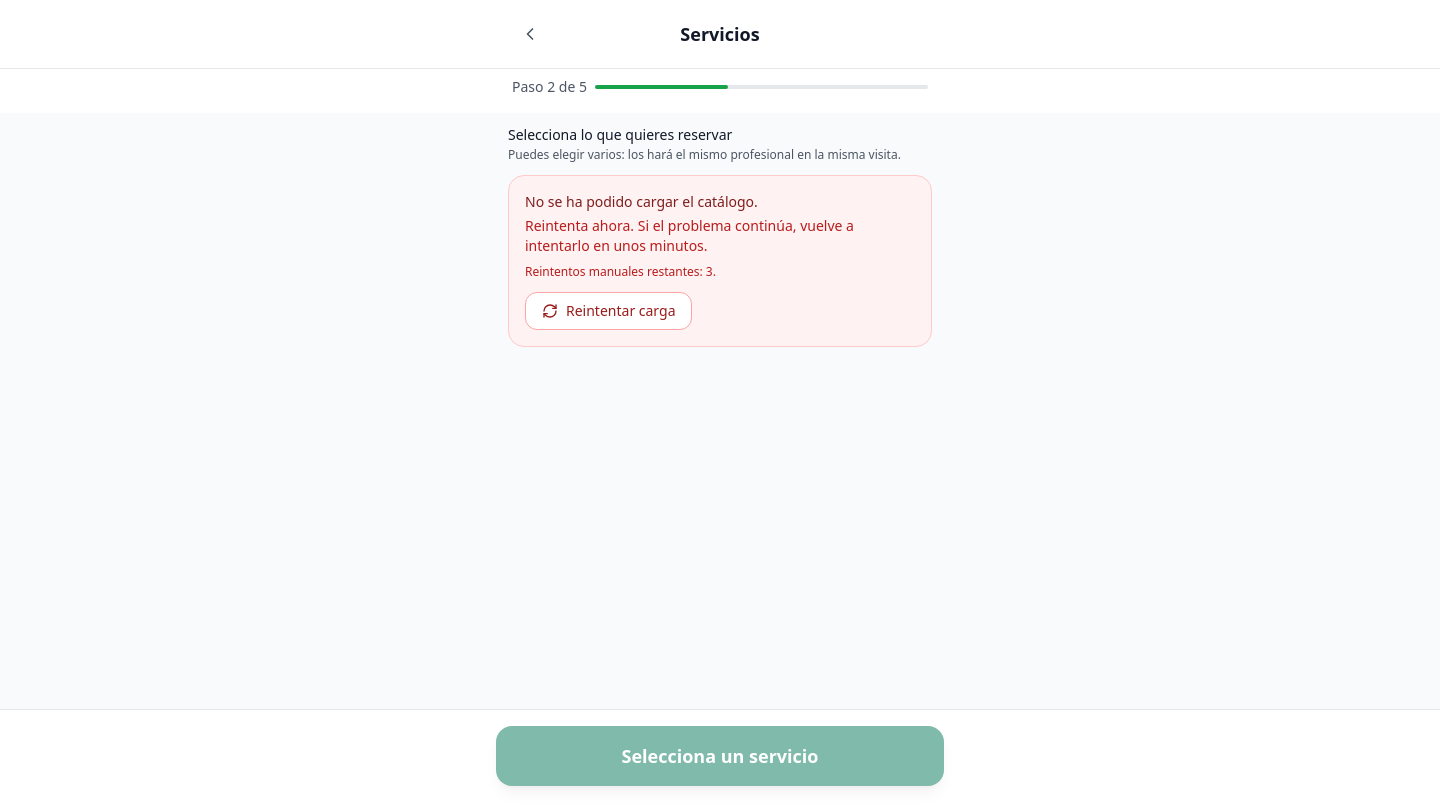
Scenario: ServicesPage › limita los reintentos manuales cuando el catalogo falla repetidamente
The image size is (1440, 810).
Check: the text "No se ha podido cargar el catálogo." is shown, box [525,192,758,211]
Click the button "Reintentar carga": (609, 311) [525,292,692,330]
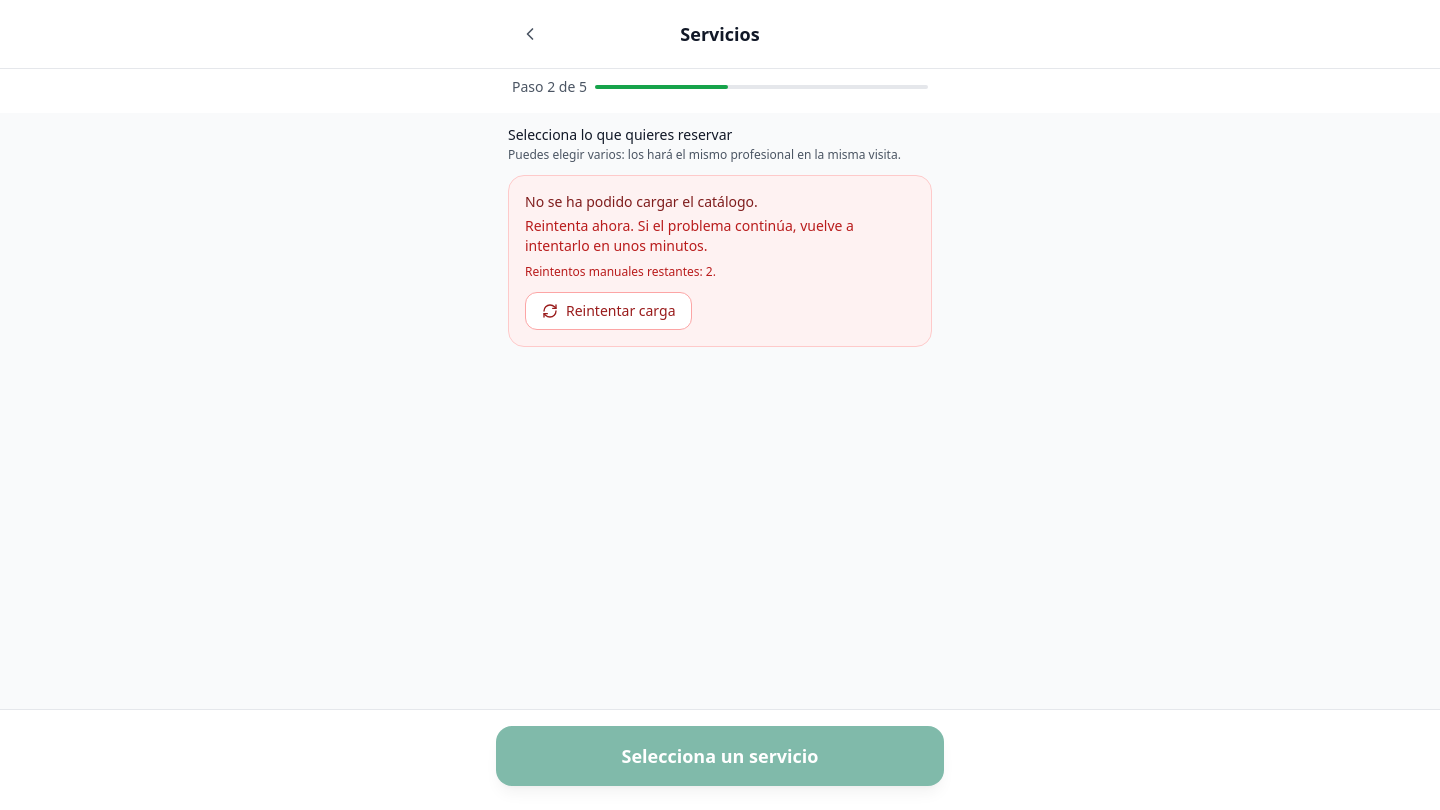
Check: the text "No se ha podido cargar el catálogo." is shown, box [525,192,758,211]
Click the button "Reintentar carga": (609, 311) [525,292,692,330]
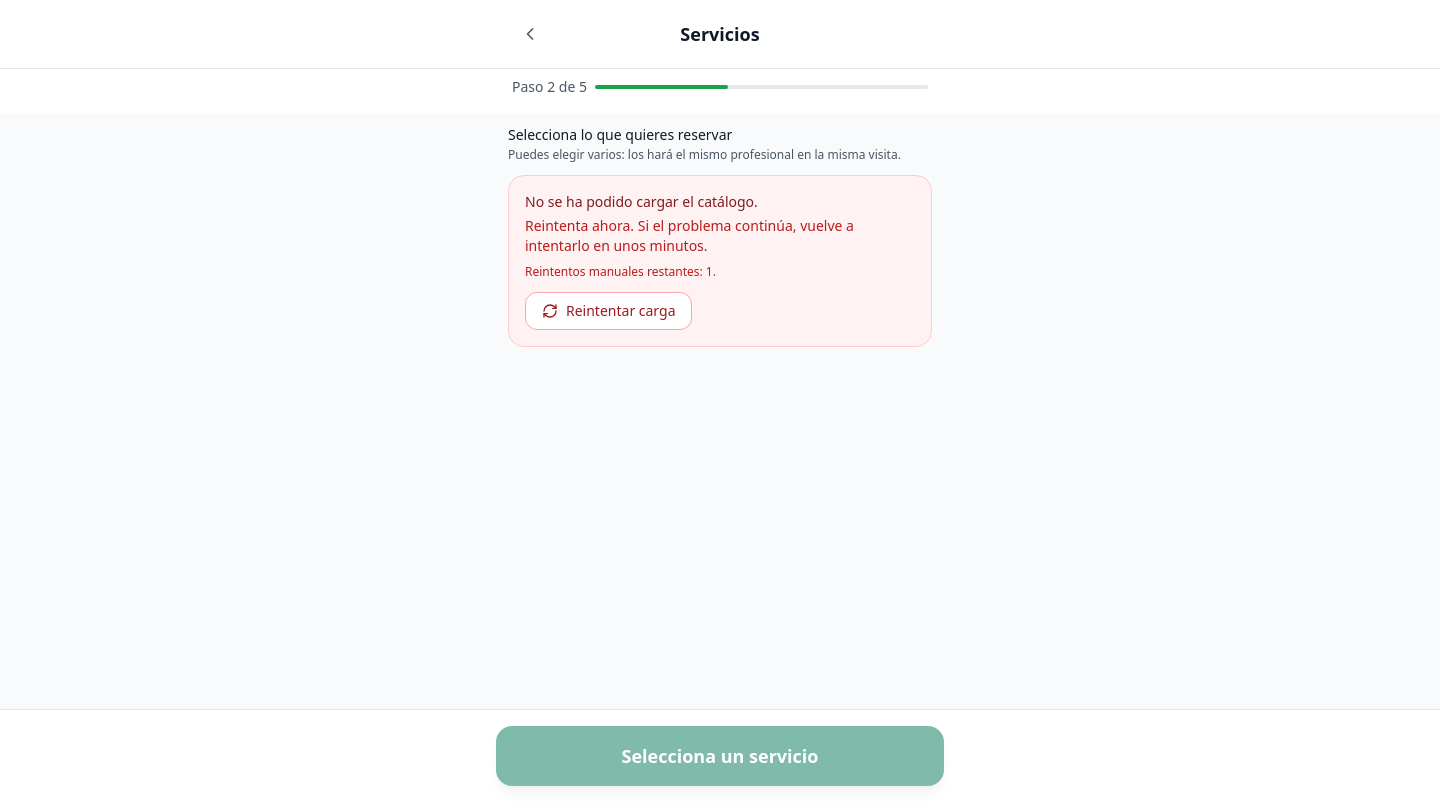
Check: the text "No se ha podido cargar el catálogo." is shown, box [525,192,758,211]
Click the button "Reintentar carga": (609, 311) [525,292,692,330]
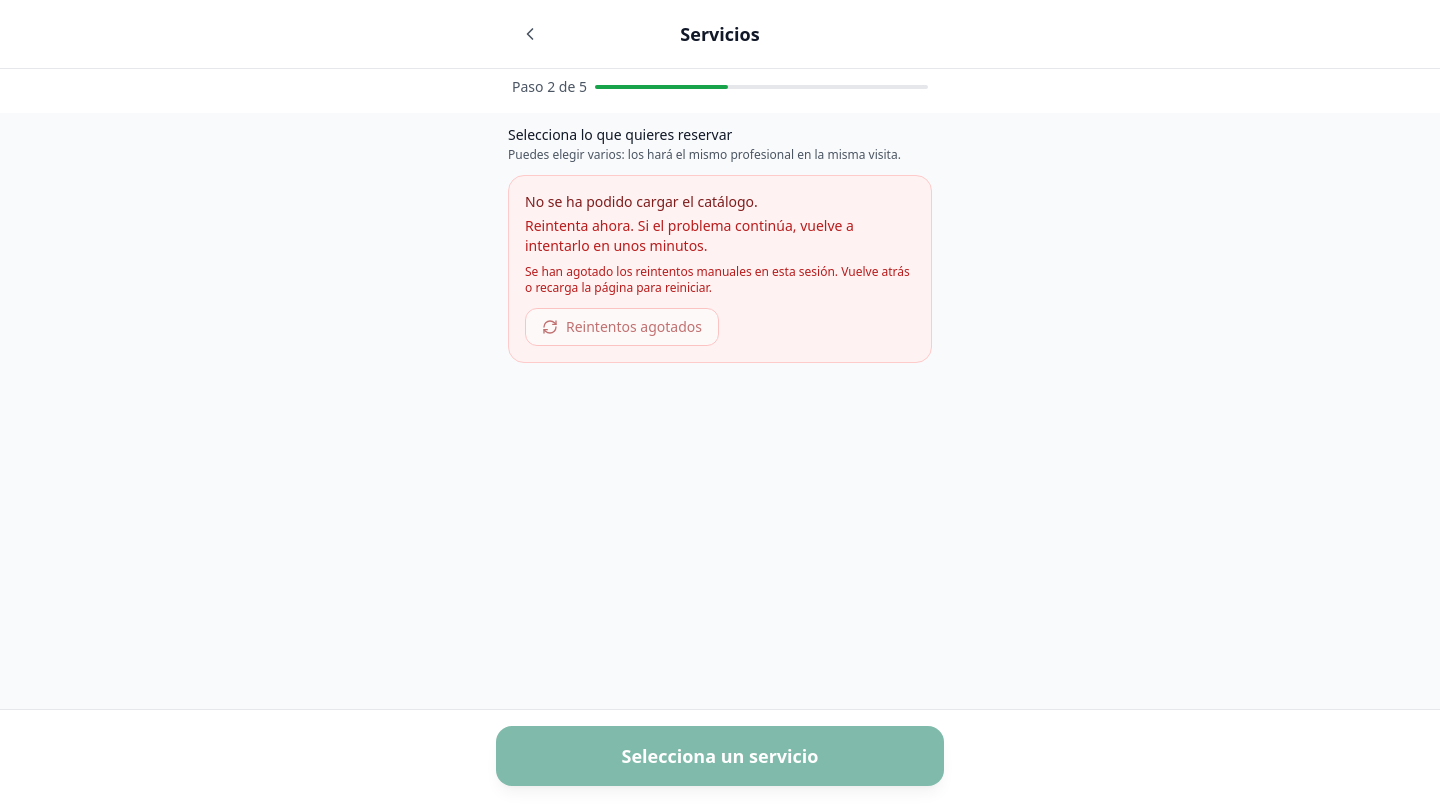
Check: the text "No se ha podido cargar el catálogo." is shown, box [525,192,758,211]
Check: the button "Reintentos agotados" is disabled, box [525,308,719,346]
